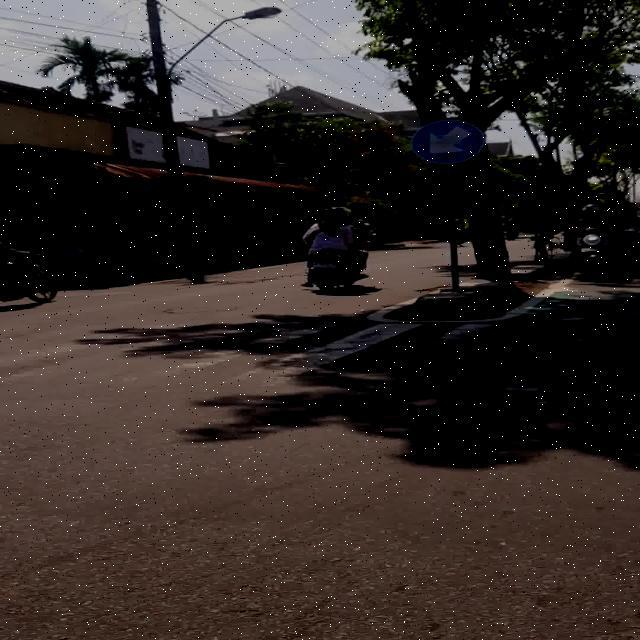Lajur Kiri: (412, 120, 485, 164)
